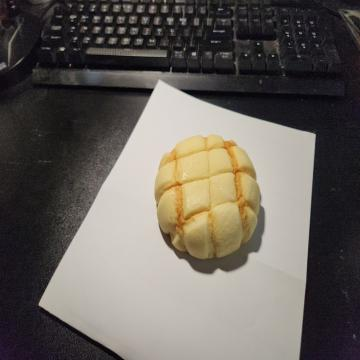melon_bread: (155, 135, 262, 260)
